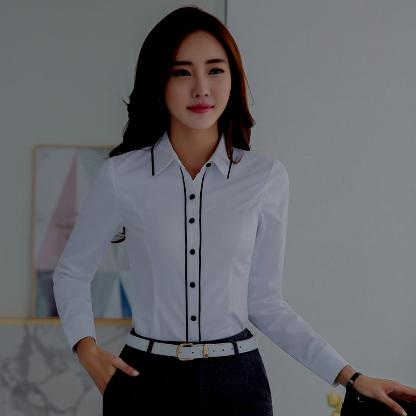dress: (51, 133, 355, 386)
